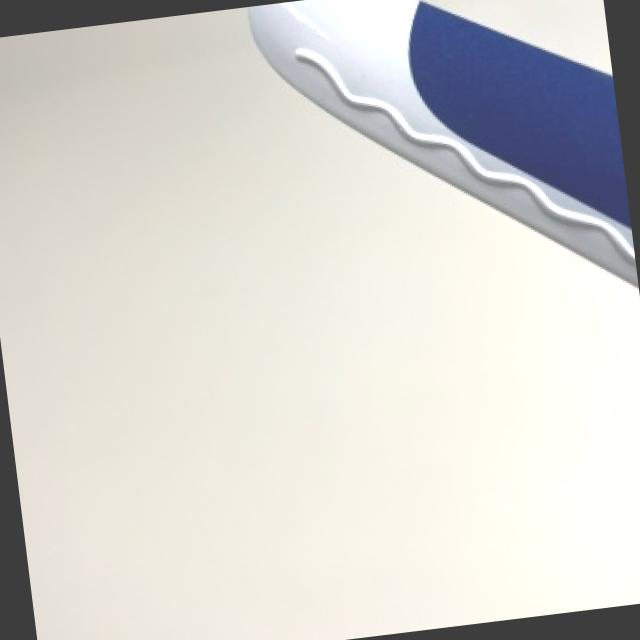healthy: (247, 0, 635, 281)
